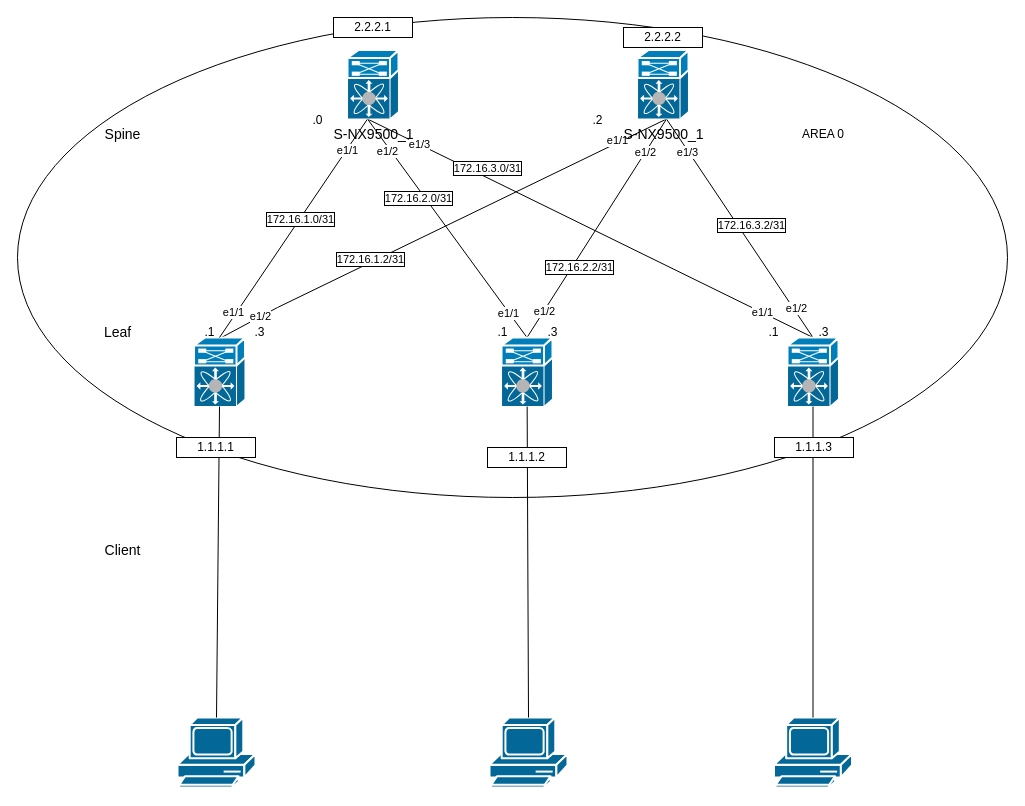
This 1025x806 diagram has some shape labels left out. Each missing label, with the centre of its shape:
"L-NX9500_1" goes at (x=219, y=371).
"L-NX9500_2" goes at (x=526, y=371).
"L-NX9500_3" goes at (x=812, y=371).
